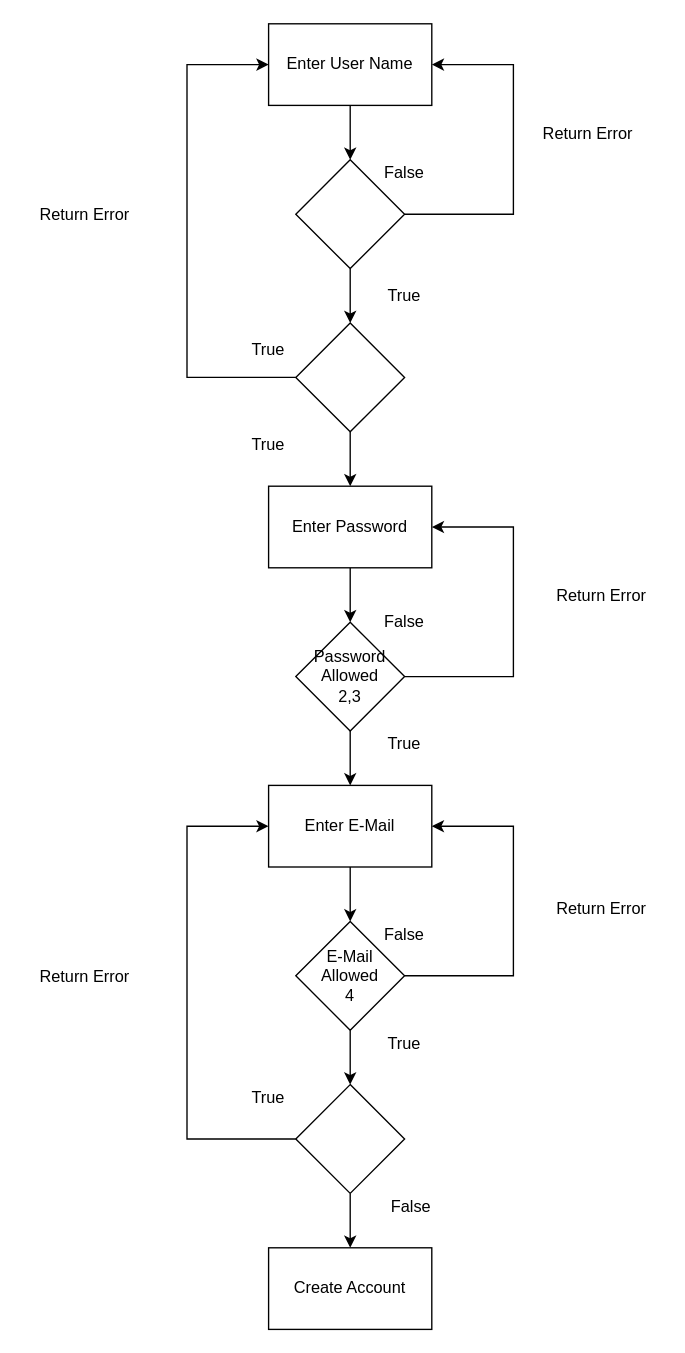
Image size: 685x1353. Some labels were removed from this diagram. Here are the shapes that lost their labels. From the top down, the box of each, then its label:
(294, 158, 405, 269): Username Allowed 1
(294, 322, 405, 432): Check if Exists
(294, 1083, 405, 1193): E-Mail Exists
